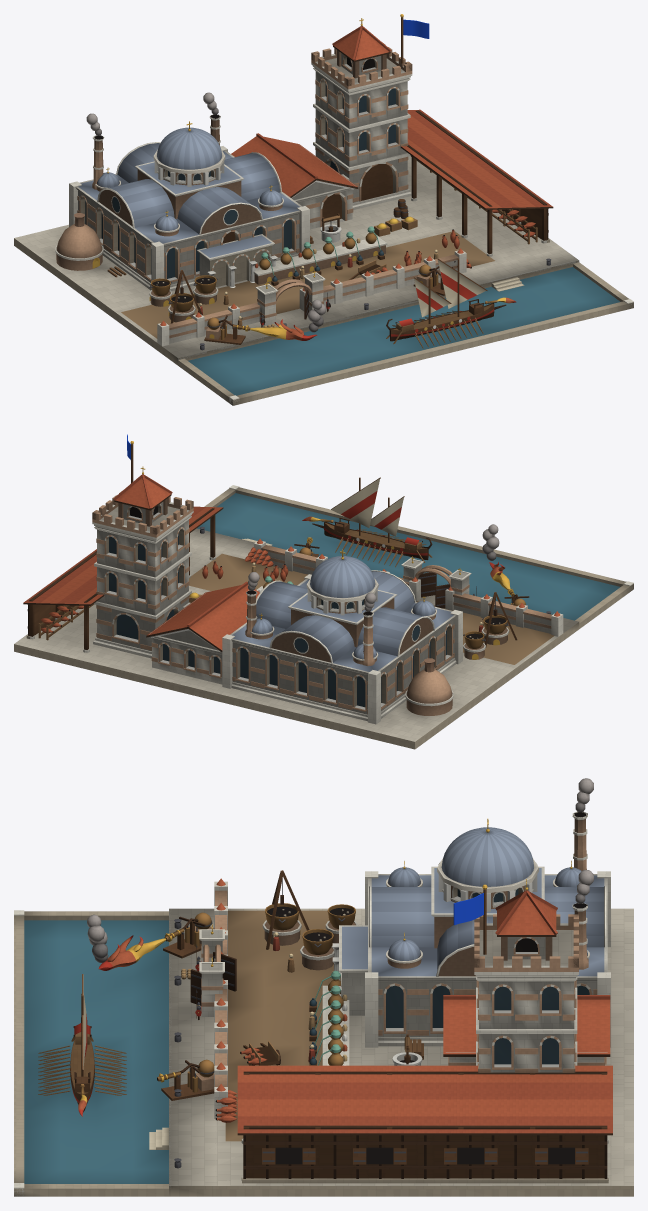
The model's file is lm_rumatesi.glb.
3 views of the same model, one above another, from view 1: azimuth 30°, elevation 25°; view 2: azimuth 150°, elevation 25°; view 3: azimuth 270°, elevation 25° (orthographic). The views are drawn at different scales.
Parts seen in each view (by area): view 1: lm_rumatesi; view 2: lm_rumatesi; view 3: lm_rumatesi.
Boxes of the visible parts, x1,y1,x2,y2 form: lm_rumatesi: (14,14,633,405); lm_rumatesi: (14,434,633,749); lm_rumatesi: (14,778,633,1196).
Size of the model in its own units: 2.2 by 0.987 by 2.08.
Materials: 1 (1 with a texture image).
